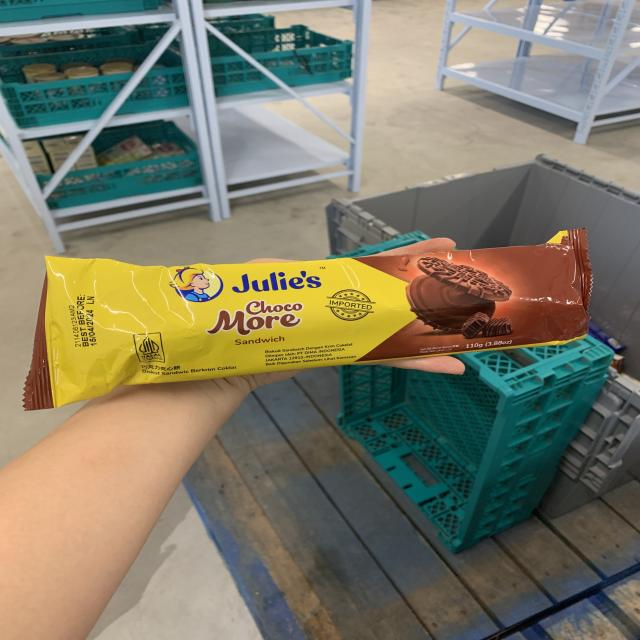object_name: (40, 262, 574, 343)
